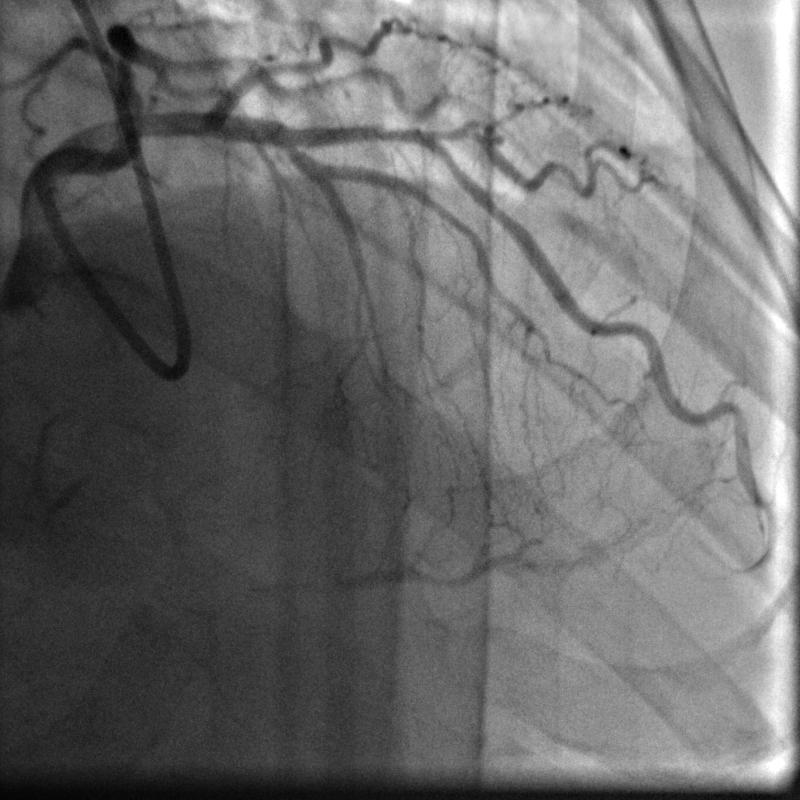Stenosis: (355, 124, 435, 150)
